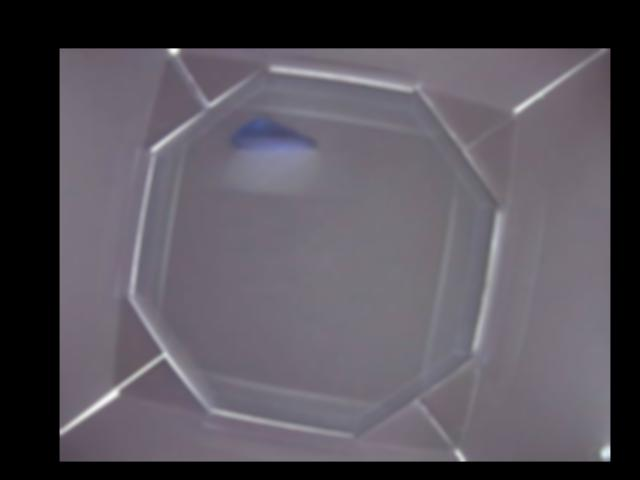Mooli: (232, 116, 317, 153)
